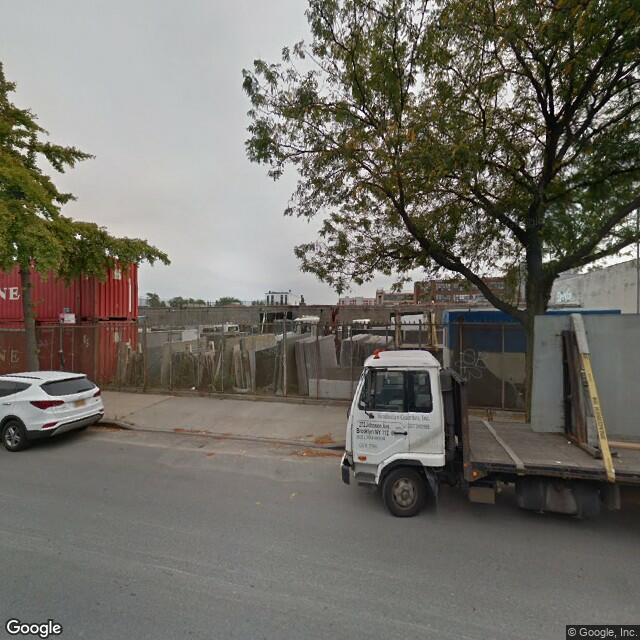litter: (189, 385, 200, 392)
